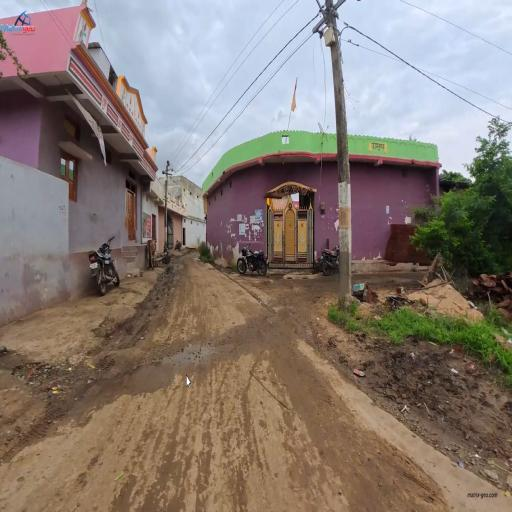edge_damage: (40, 344, 106, 438)
